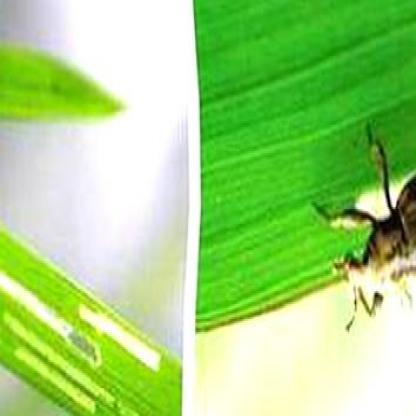rice-bug: (338, 142, 416, 308)
